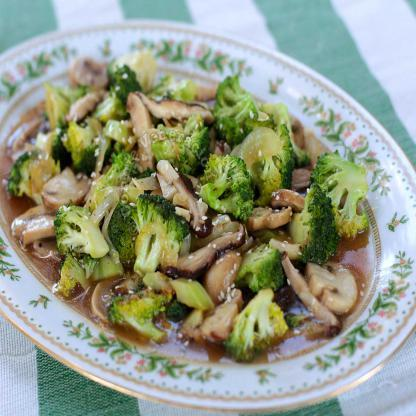broccoli: (3, 49, 375, 364)
